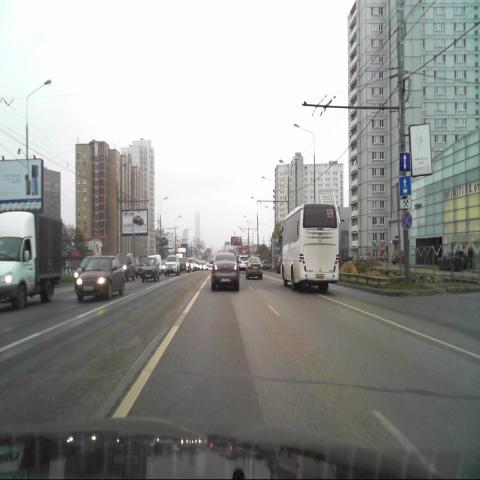5_14: (399, 176, 411, 196)
